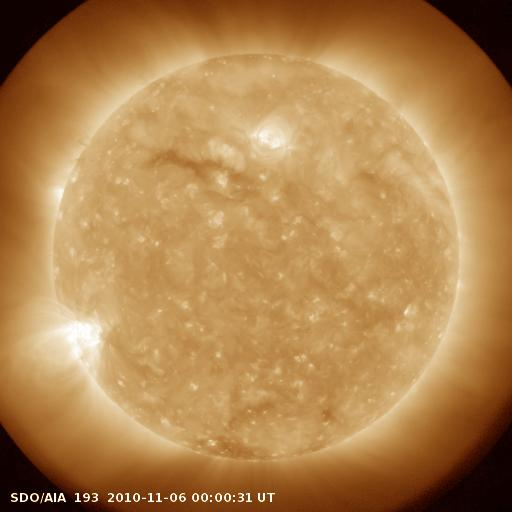coronal_hole: (140, 146, 233, 184)
